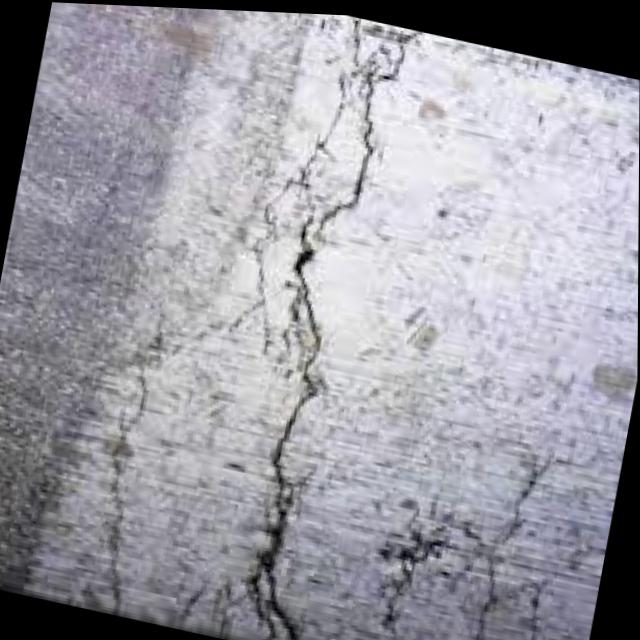Crack: (231, 85, 436, 394), (69, 336, 232, 573)
